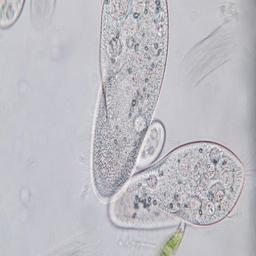Paramecium: (93, 7, 171, 200), (107, 141, 248, 231)
